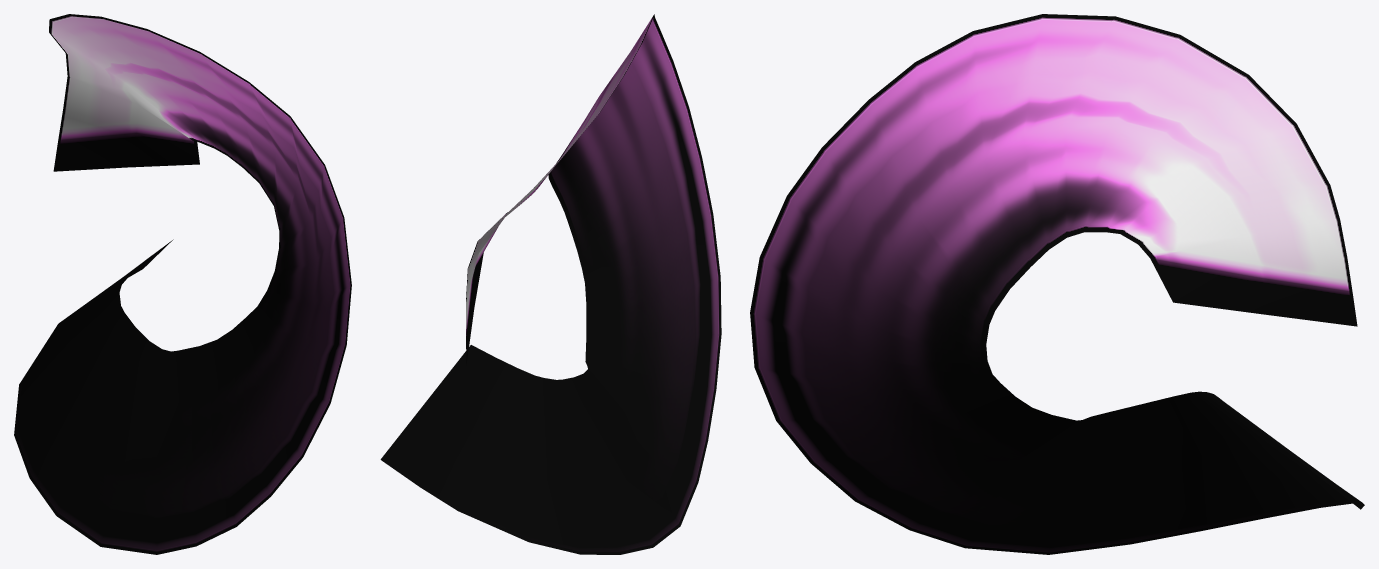
File: Mesh_Snowwhite_010_wjl.FBX
3 renders of one model, left to right at view 1: azimuth 30°, elevation 25°; view 2: azimuth 150°, elevation 25°; view 3: azimuth 270°, elevation 25°, orthographic. The views are drawn at different scales.
Visible parts, largest first — view 1: Plane002; view 2: Plane002; view 3: Plane002.
Part boxes in pixels (left/top/right/bottom): Plane002: left=14, top=14, right=351, bottom=554; Plane002: left=380, top=14, right=721, bottom=554; Plane002: left=750, top=14, right=1364, bottom=554.
Bounding box in the file's own units: 110 × 281 × 277.
